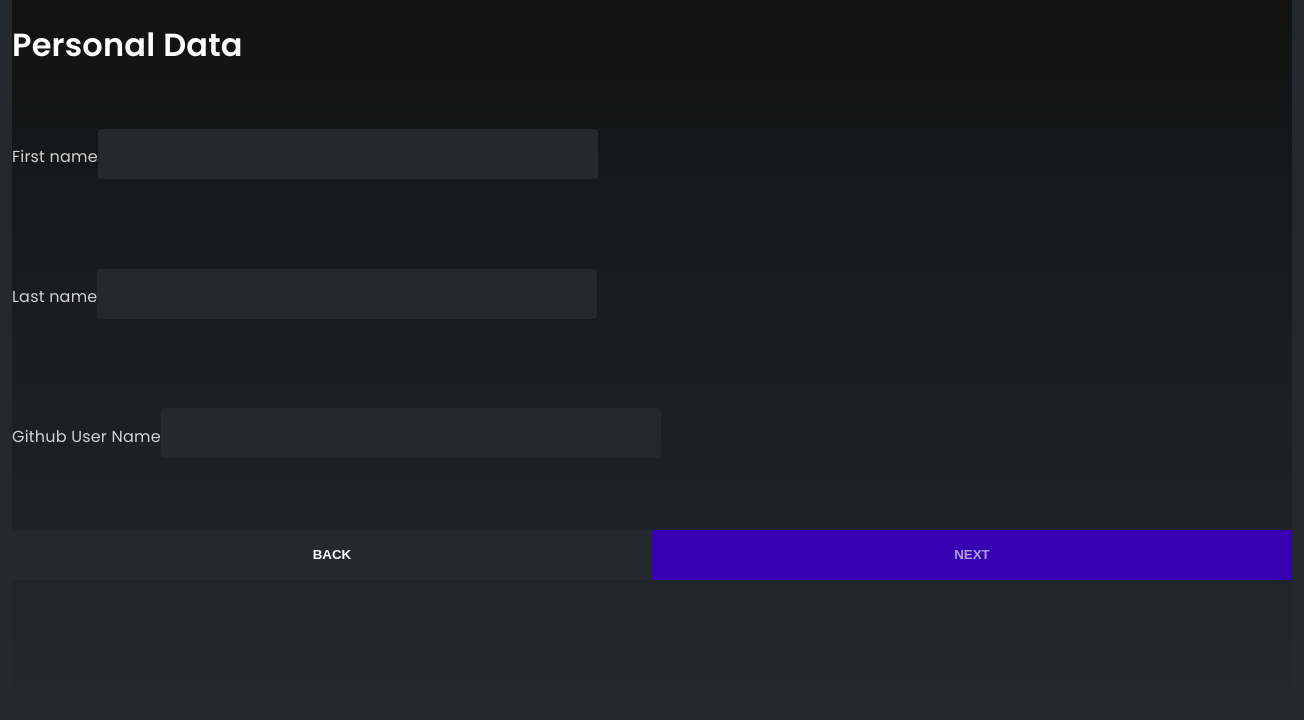
Test case: rendering › form is valid › should enable "next" button if all fields have been filled out
The width and height of the screenshot is (1304, 720).
Expected: the button "next" is disabled, [652, 530, 1292, 580]
Type "Mister" into the field labelled "First name" at (348, 154), box [98, 129, 598, 179]
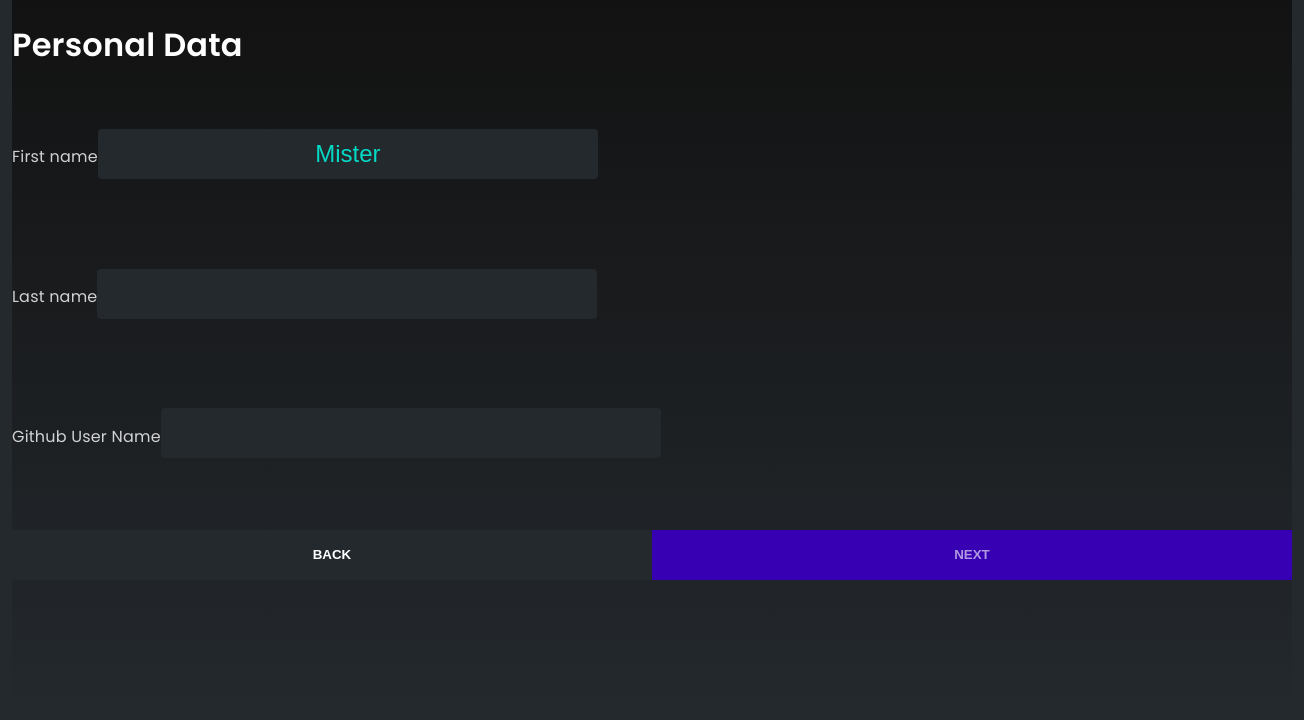
Type "Mustermann" into the field labelled "Last name" at (347, 294), box [97, 269, 597, 319]
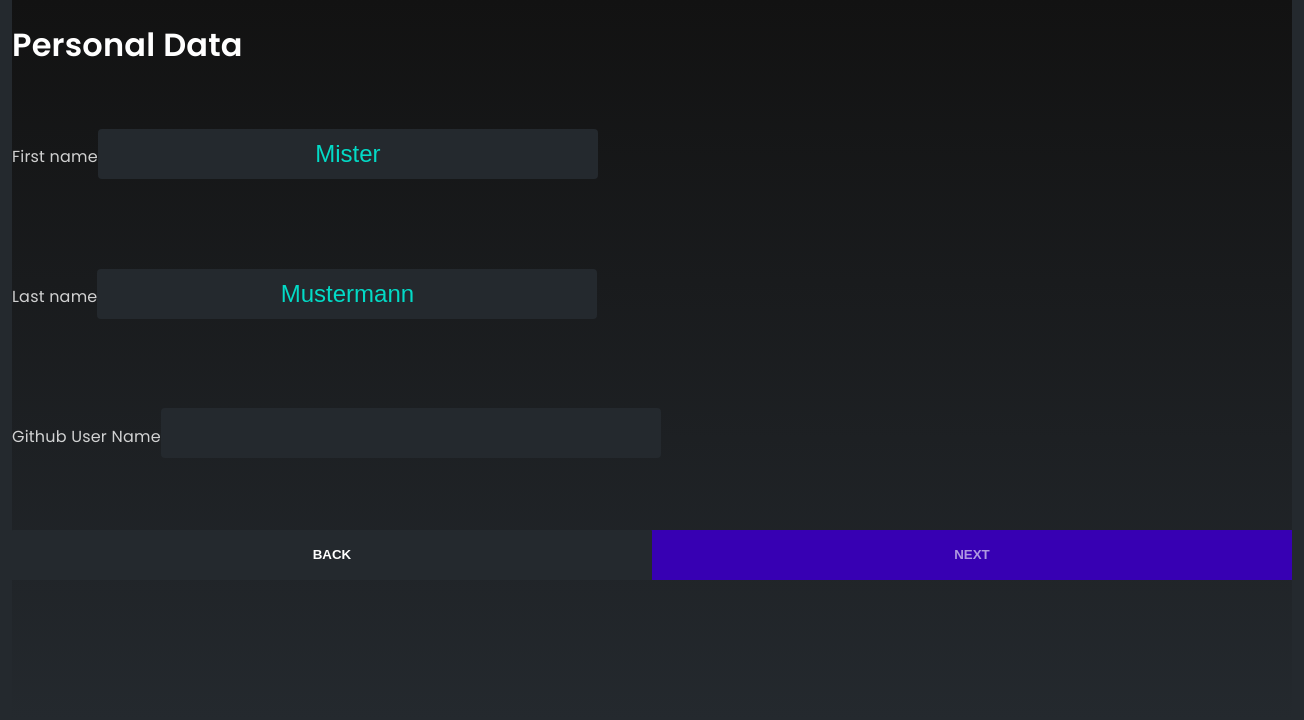
Type "githubname" into the field labelled "Github User Name" at (411, 433), box [161, 408, 661, 458]
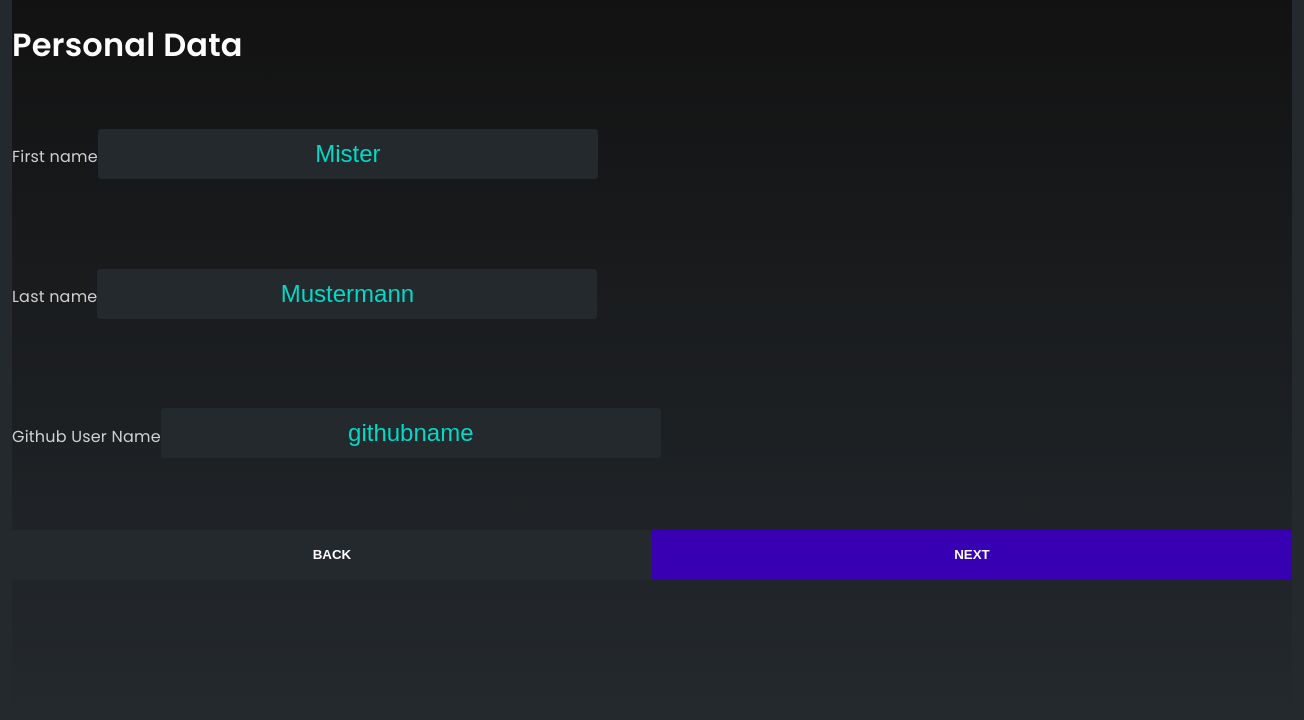
Expected: the button with test id "ButtonPrimary" is enabled, [652, 530, 1292, 580]
